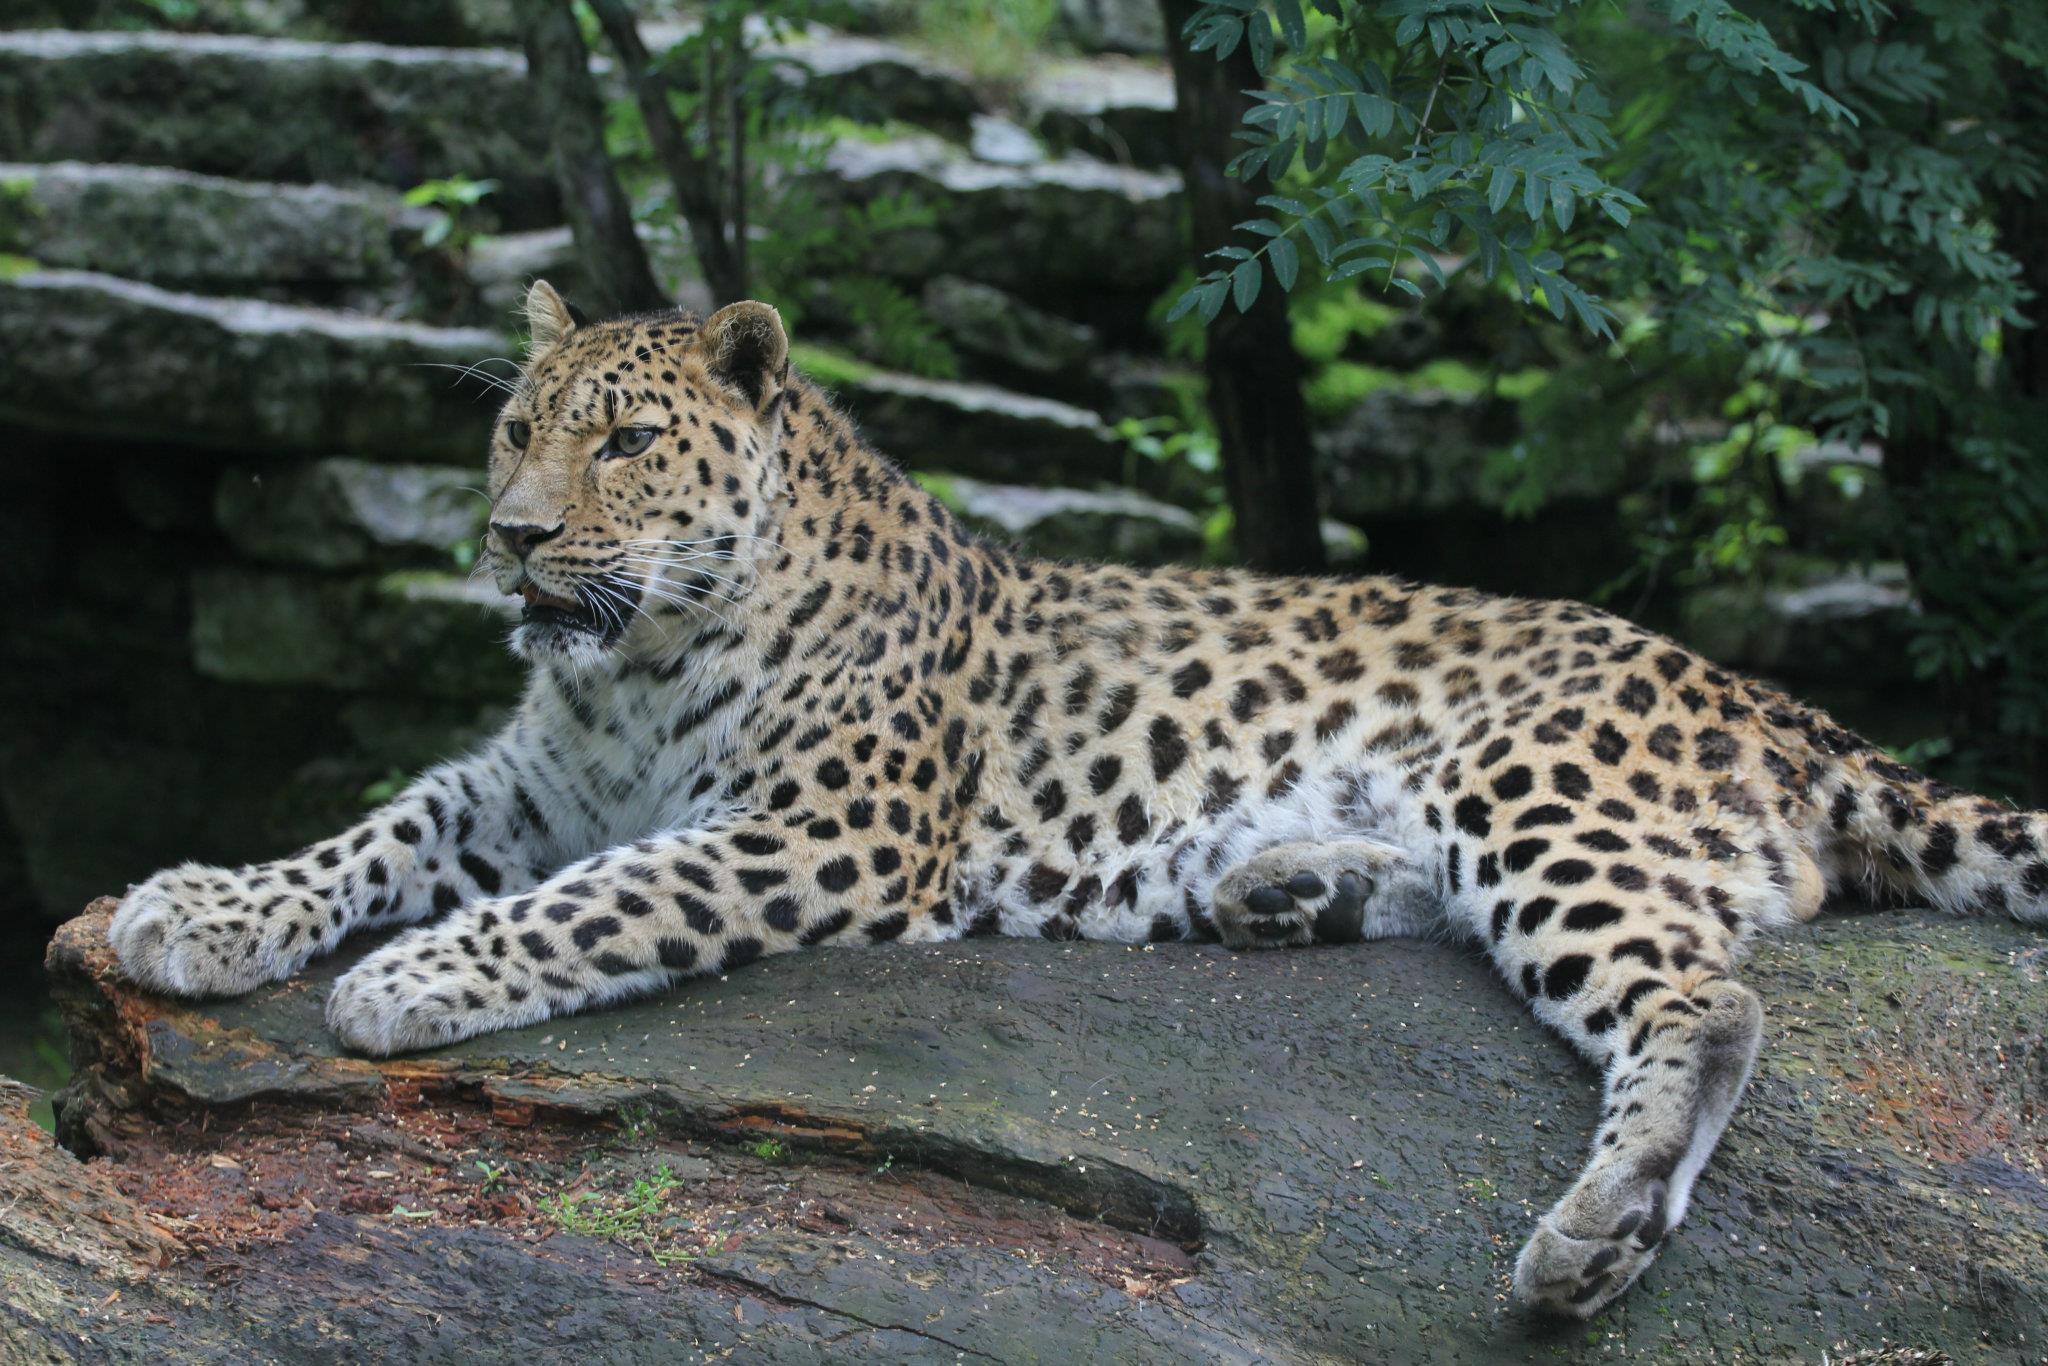amur_leopard: (93, 210, 2045, 1313)
